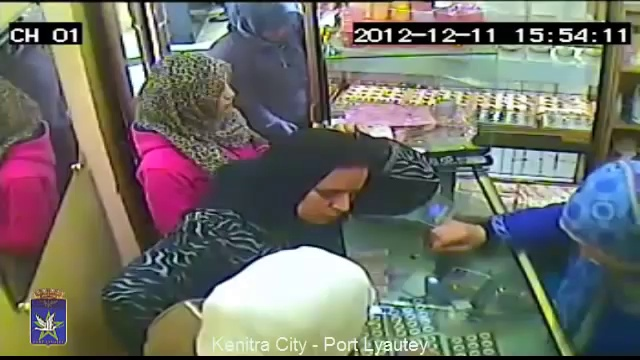face: (286, 159, 366, 222)
